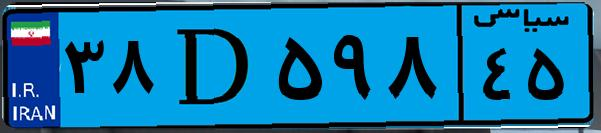3: (57, 26, 110, 100)
4: (475, 38, 525, 113)
5: (270, 28, 330, 110), (525, 38, 570, 115)
8: (385, 28, 445, 110), (110, 28, 158, 98)
9: (330, 28, 385, 110)
D: (158, 12, 270, 120)
